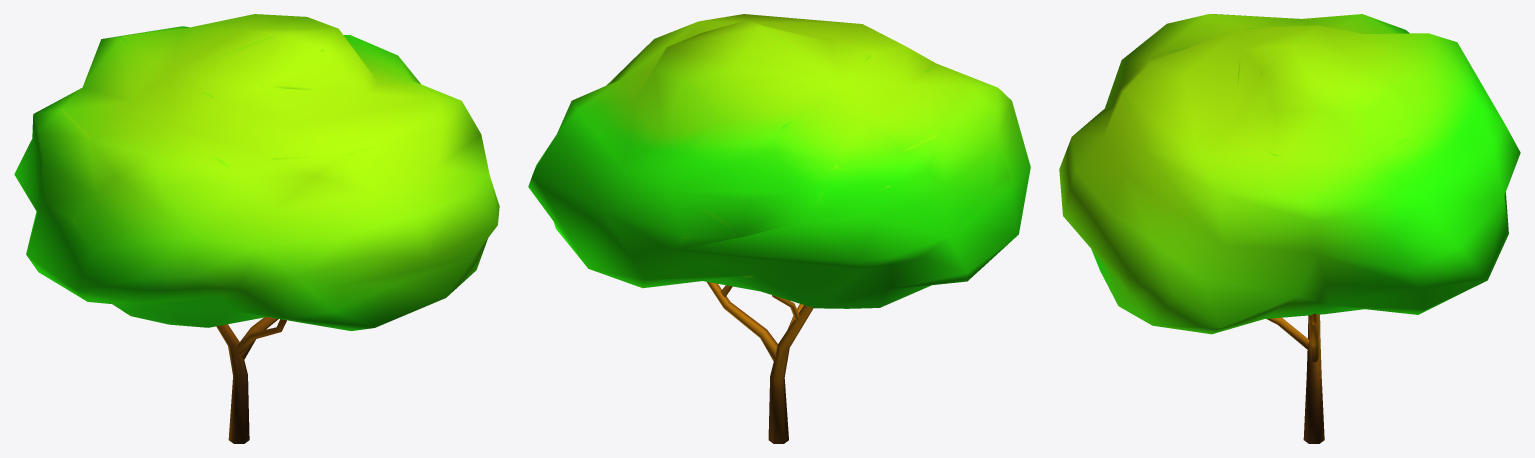
The model's file is TreeStyle3Blue_04.fbx.
The picture shows the model from 3 angles, left to right: view 1: azimuth 30°, elevation 25°; view 2: azimuth 150°, elevation 25°; view 3: azimuth 270°, elevation 25°; orthographic projection. The views are drawn at different scales.
Parts seen in each view (by area): view 1: TreeStyle3_04; view 2: TreeStyle3_04; view 3: TreeStyle3_04.
Part boxes in pixels (box(x1,y1,x2,y2)): TreeStyle3_04: box(14, 14, 499, 443); TreeStyle3_04: box(528, 14, 1030, 443); TreeStyle3_04: box(1059, 14, 1520, 443).
Bounding box in the file's own units: 803 × 772 × 792.
